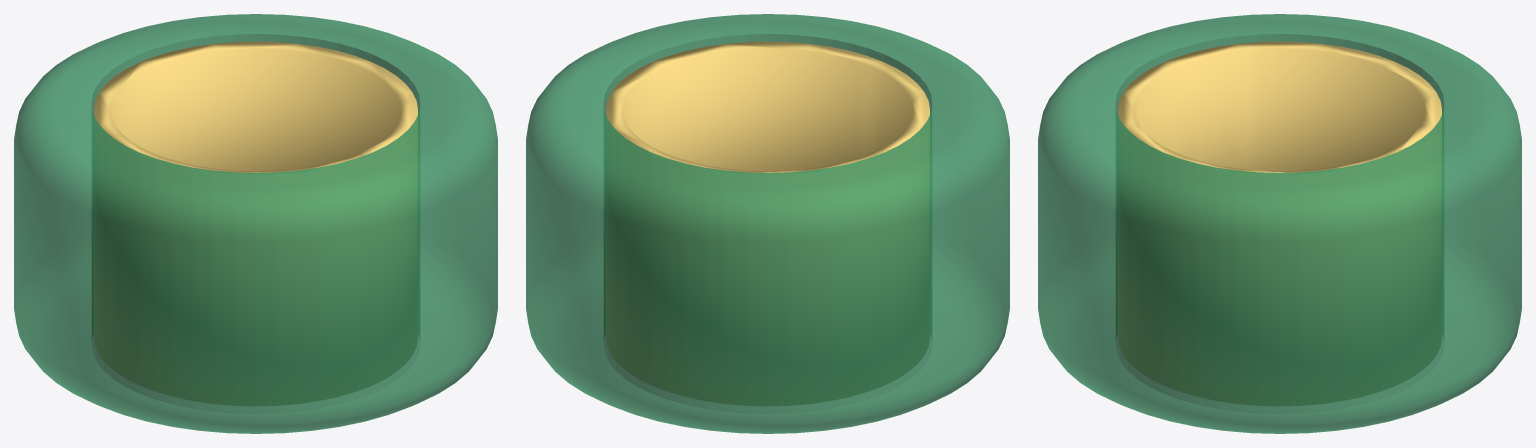
The model's file is banzhi.glb.
3 views of the same model, side by side, from view 1: azimuth 30°, elevation 25°; view 2: azimuth 150°, elevation 25°; view 3: azimuth 270°, elevation 25° (orthographic).
Parts seen in each view (by area): view 1: banzhi; view 2: banzhi; view 3: banzhi.
Part boxes in pixels (<box>): banzhi: <box>14,14,497,433</box>; banzhi: <box>526,14,1009,433</box>; banzhi: <box>1038,14,1521,433</box>.
Bounding box in the file's own units: 1 × 0.55 × 1.
